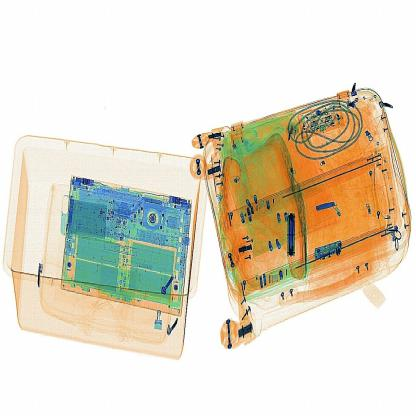scissors: (285, 207, 299, 262)
